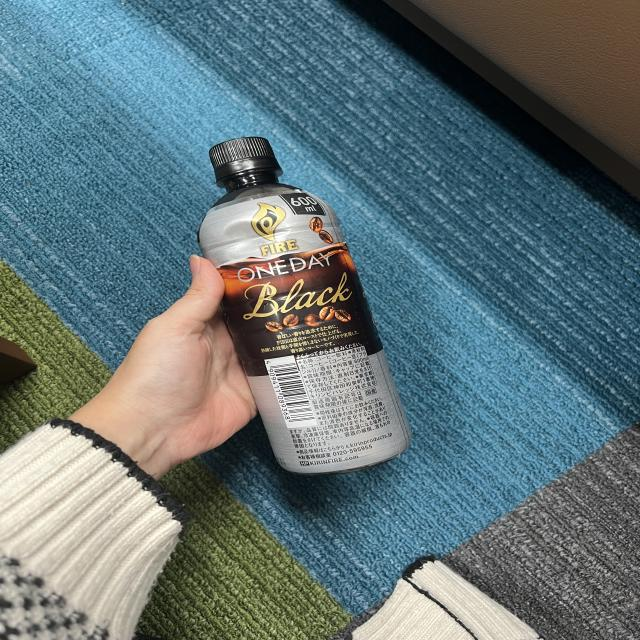coffee-black: (201, 140, 409, 485)
